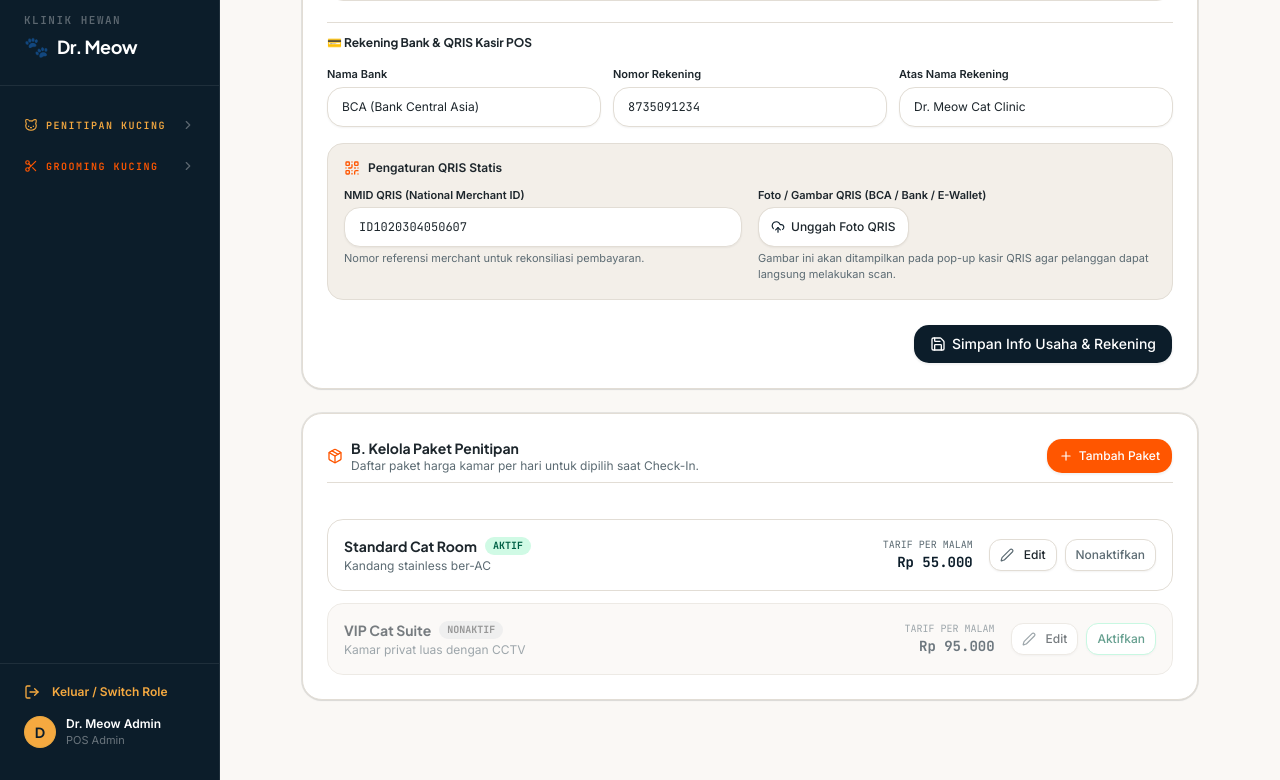
Test case: src/pages/pos/Pengaturan.tsx - Component Tests › opens add package dialog when clicking Tambah Paket button
(page scrolled)
Click the button "Tambah Paket". click: (1109, 456)
box: [1046,438,1173,474]
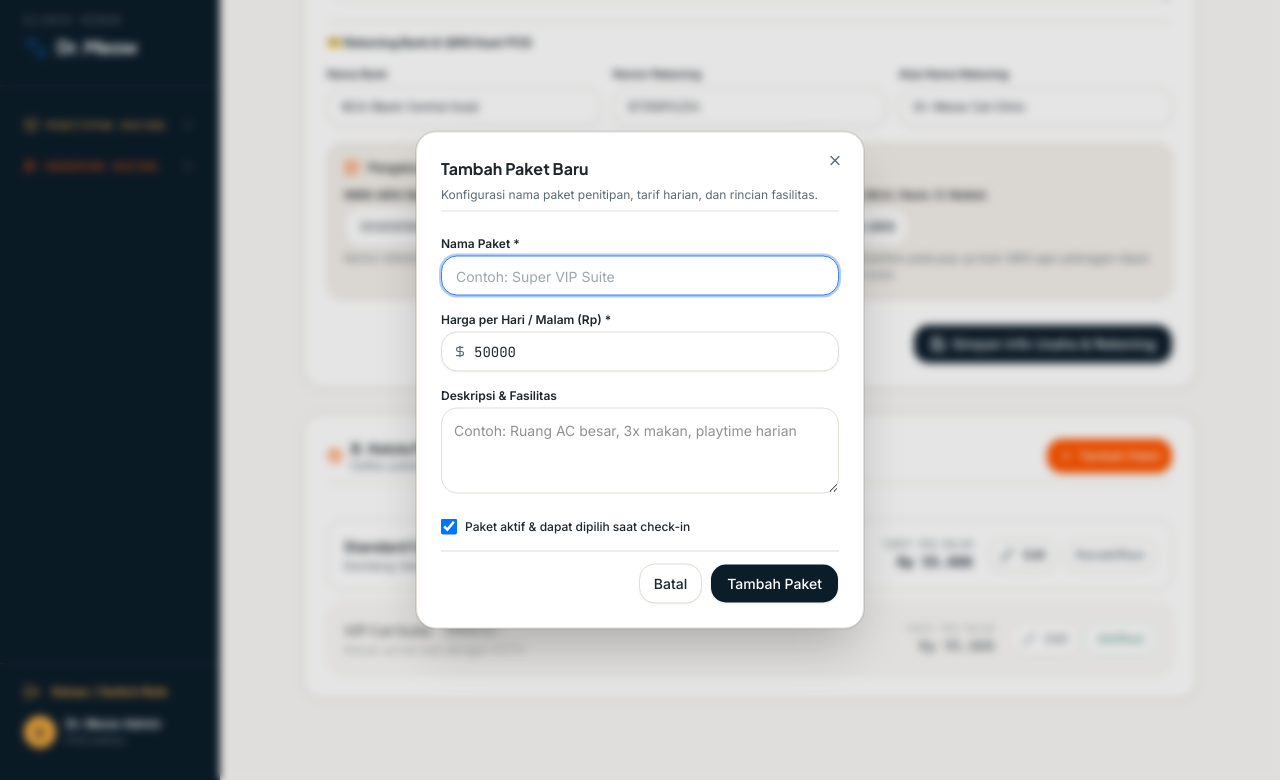
Now the heading "Tambah Paket Baru" is shown, box [441,158,588,178]
